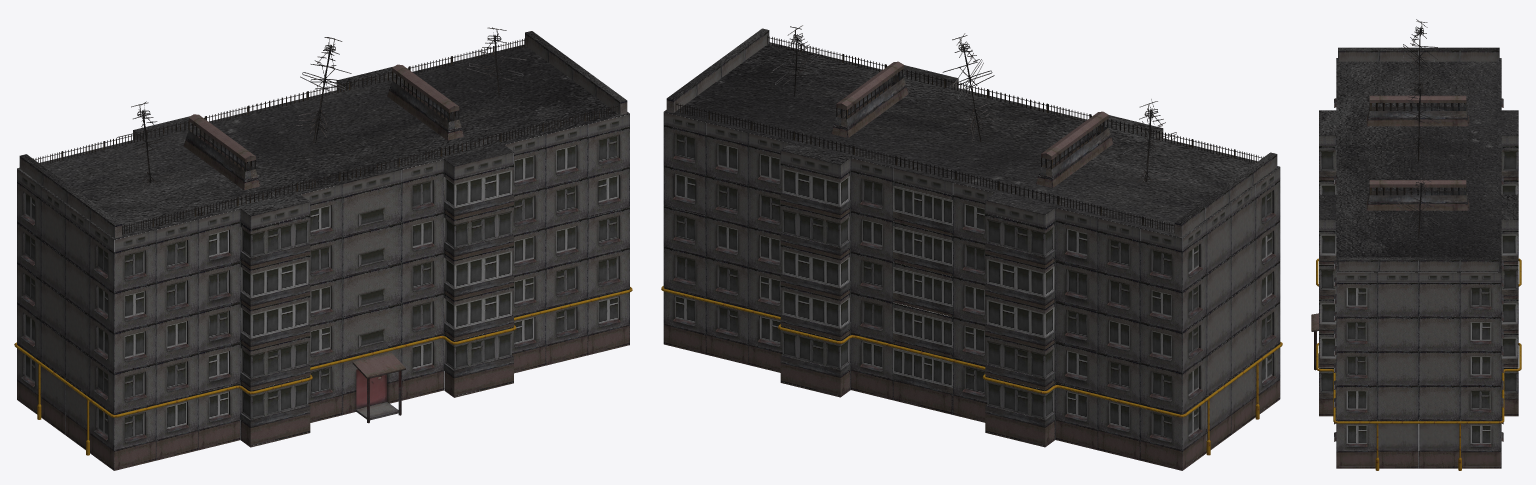
File: Panelka.fbx
The picture shows the model from 3 angles, left to right: view 1: azimuth 30°, elevation 25°; view 2: azimuth 150°, elevation 25°; view 3: azimuth 270°, elevation 25°; orthographic projection. The views are drawn at different scales.
Visible parts, largest first — view 1: Panelka, Pipes, Vsor; view 2: Panelka, Pipes; view 3: Panelka, Pipes, Vsor.
Boxes of the visible parts, x1,y1,x2,y2 form: Panelka: [17, 27, 629, 470]; Pipes: [14, 287, 632, 455]; Vsor: [352, 352, 405, 423]; Panelka: [663, 25, 1280, 470]; Pipes: [661, 286, 1282, 455]; Panelka: [1318, 19, 1518, 468]; Pipes: [1316, 258, 1521, 470]; Vsor: [1311, 313, 1318, 370].
Bounding box in the file's own units: 2980 × 1852 × 1221.
